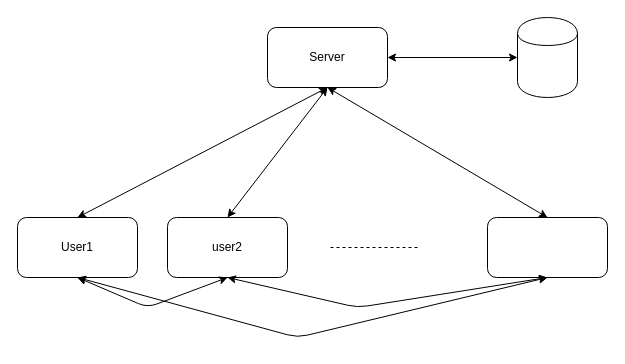
Image size: 625x364. Some labels were removed from this diagram. The centre of each missing label's shape, as x and y in pixels:
DB: pixel 547 57
userN: pixel 547 247
